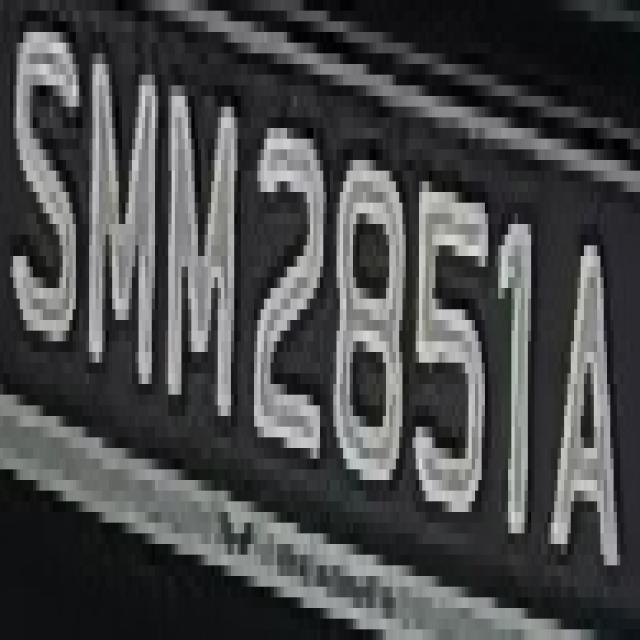1: (498, 149, 531, 619)
2: (244, 85, 330, 544)
5: (412, 192, 505, 533)
8: (330, 128, 409, 555)
A: (541, 203, 630, 597)
M: (155, 53, 241, 448), (76, 42, 155, 394)
S: (10, 0, 76, 363)
